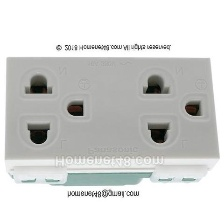three_eye_plug: (3, 53, 221, 188)
